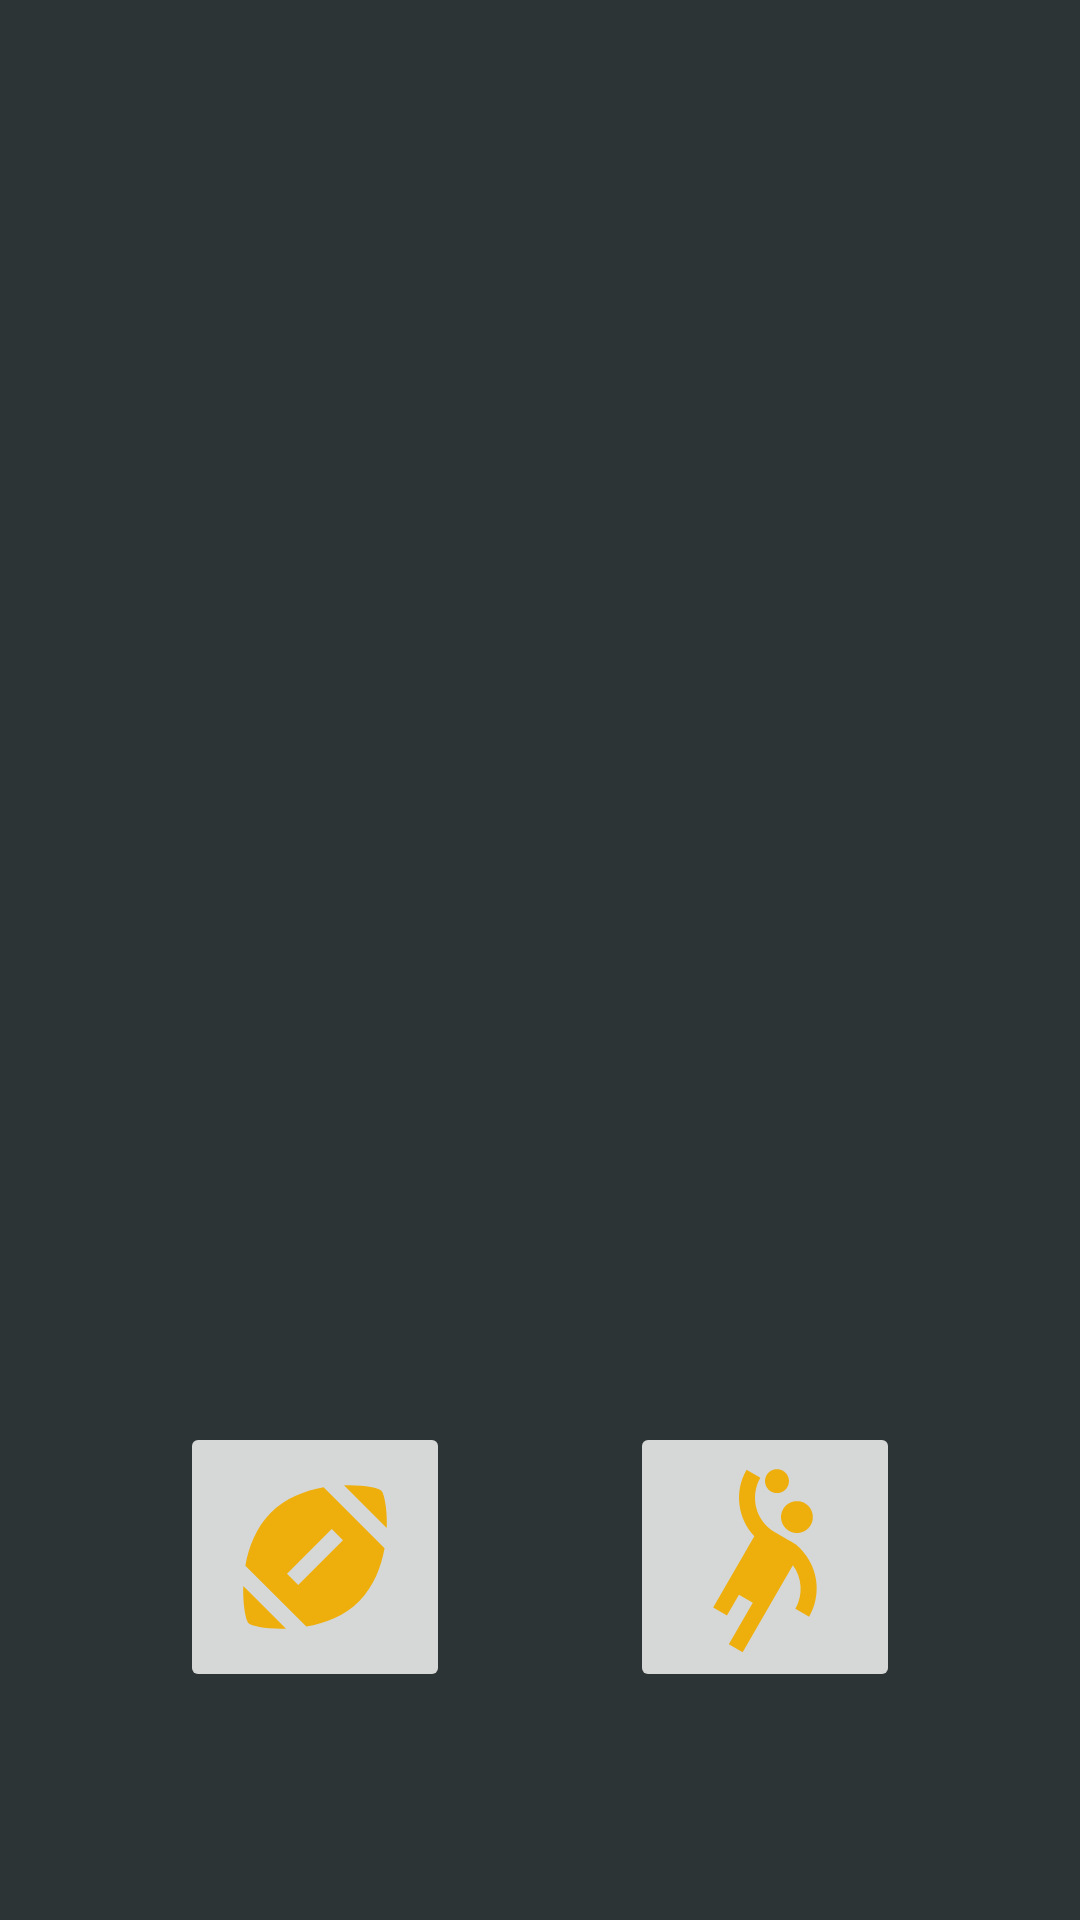

Icon click points for this 1080 x 1920 phone screenshot, format (x=x, y=y):
sports: (x=315, y=1557)
